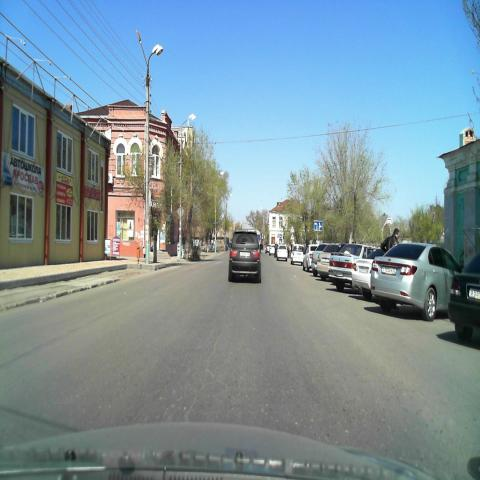5_15_2_2: (313, 220, 323, 232)
